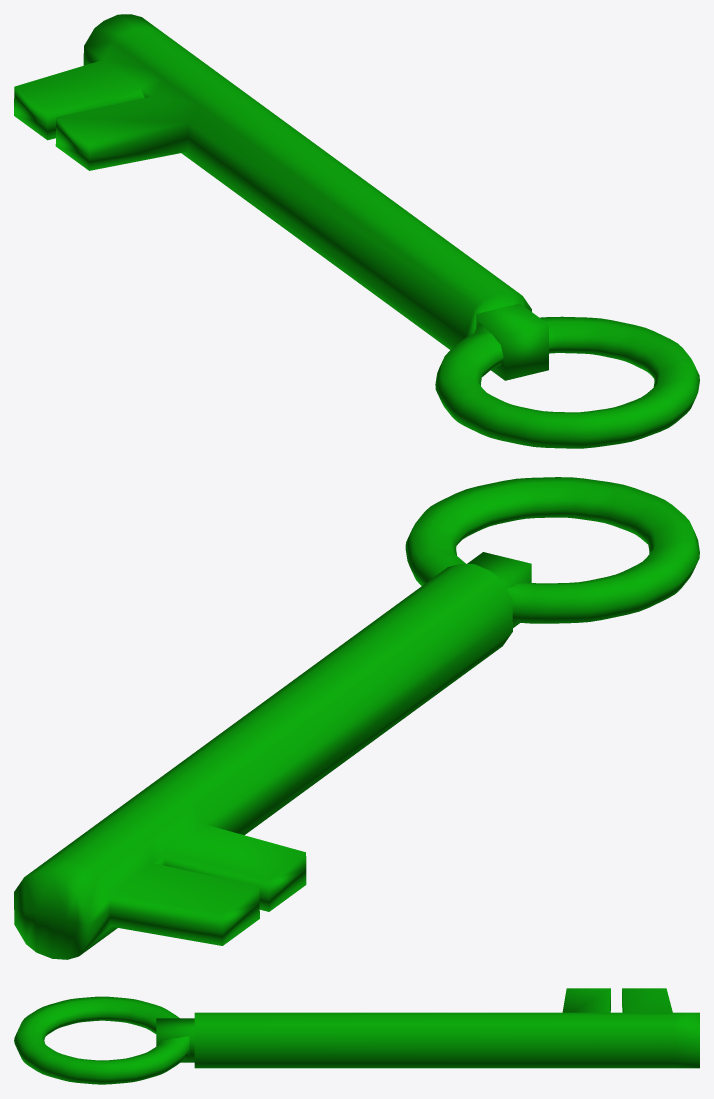
The model's file is geo_clefUV.fbx.
The picture shows the model from 3 angles, top to bottom: view 1: azimuth 30°, elevation 25°; view 2: azimuth 150°, elevation 25°; view 3: azimuth 270°, elevation 25°; orthographic projection. The views are drawn at different scales.
Parts seen in each view (by area): view 1: geo_keyUV; view 2: geo_keyUV; view 3: geo_keyUV.
Boxes of the visible parts, bbox=[...] form: geo_keyUV: bbox=[14, 14, 699, 448]; geo_keyUV: bbox=[14, 477, 699, 959]; geo_keyUV: bbox=[14, 988, 699, 1084].
Bounding box in the file's own units: 0.6098 × 0.1805 × 2.24.
